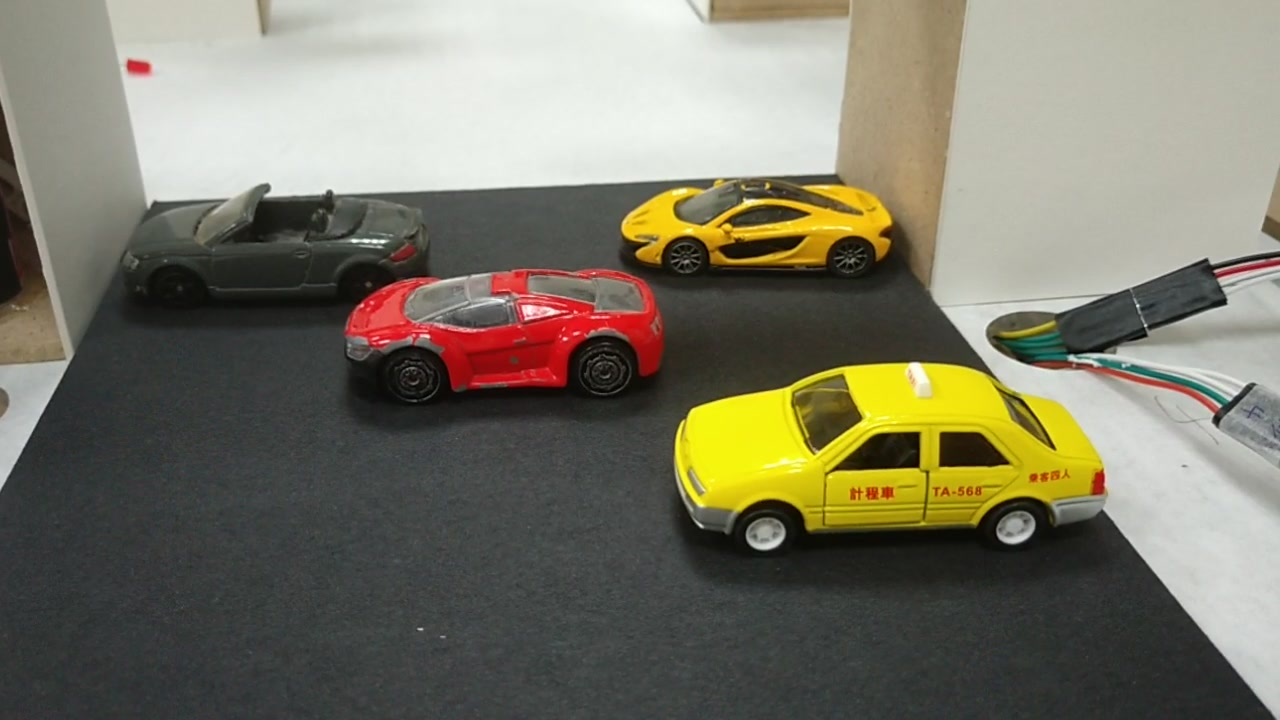car: (671, 361, 1116, 538), (345, 282, 663, 396), (133, 203, 431, 298), (619, 183, 895, 273)
